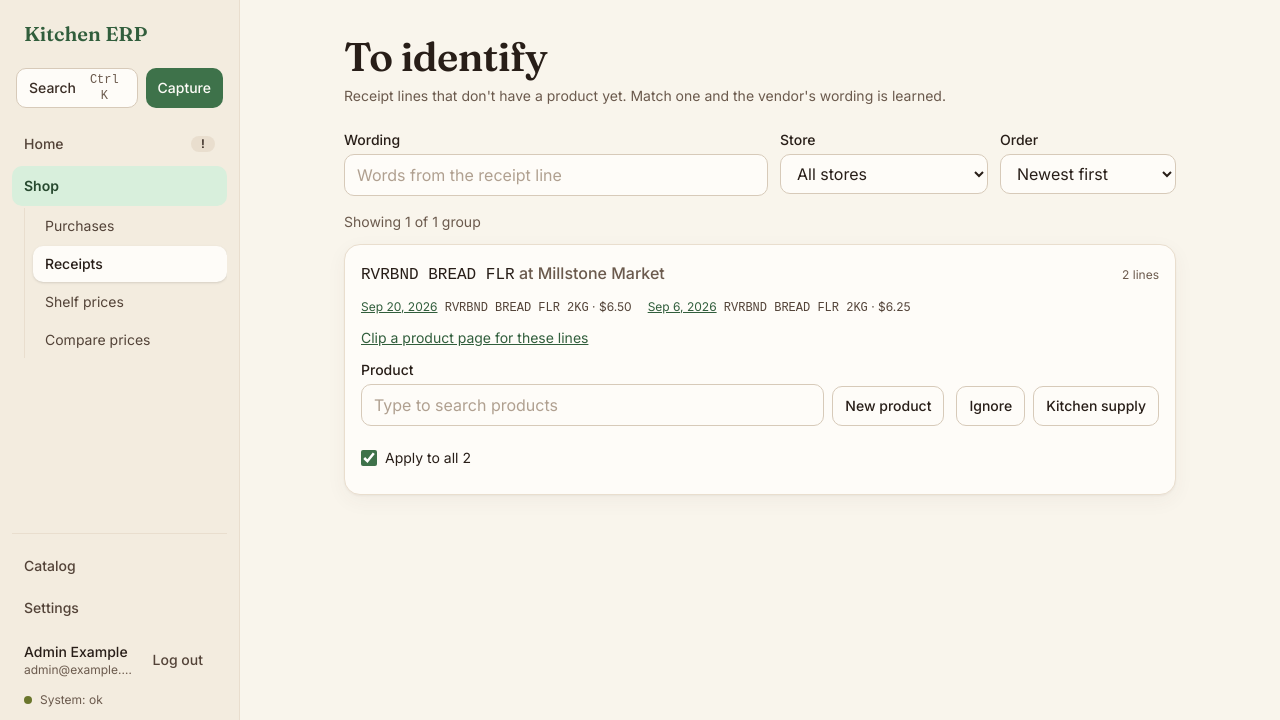
Test: to-identify queue › applies a chosen product to every line in the group by default
The image size is (1280, 720).
Expected: the element named "Millstone Market: RVRBND BREAD FLR" shows "2 lines", [361,261,1159,478]
Expected: the checkbox labelled "Apply to all 2" is checked, [361,450,377,466]
Type "flour" into the dropdown labelled "Product" at x=593, y=405, box [361,384,824,426]
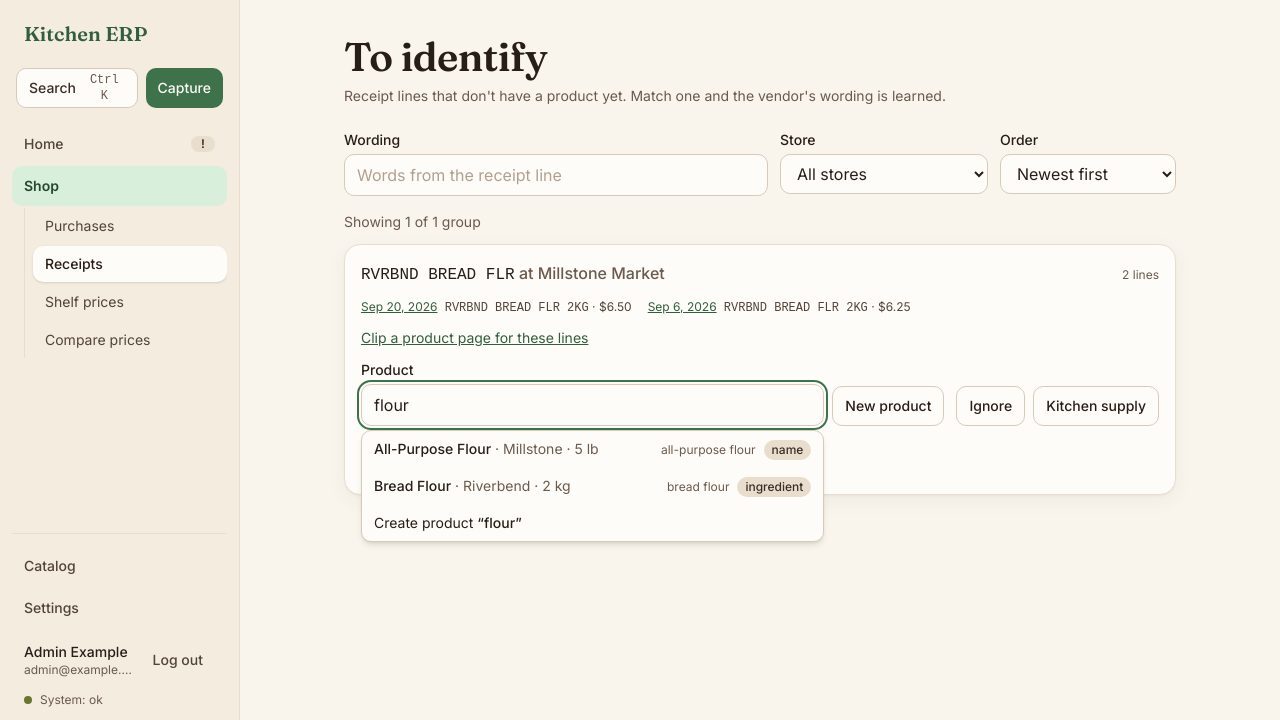
Click the option "Bread Flour · Riverbend · 2 kg bread flour ingredient" at x=413, y=486, box [374,477,811,497]
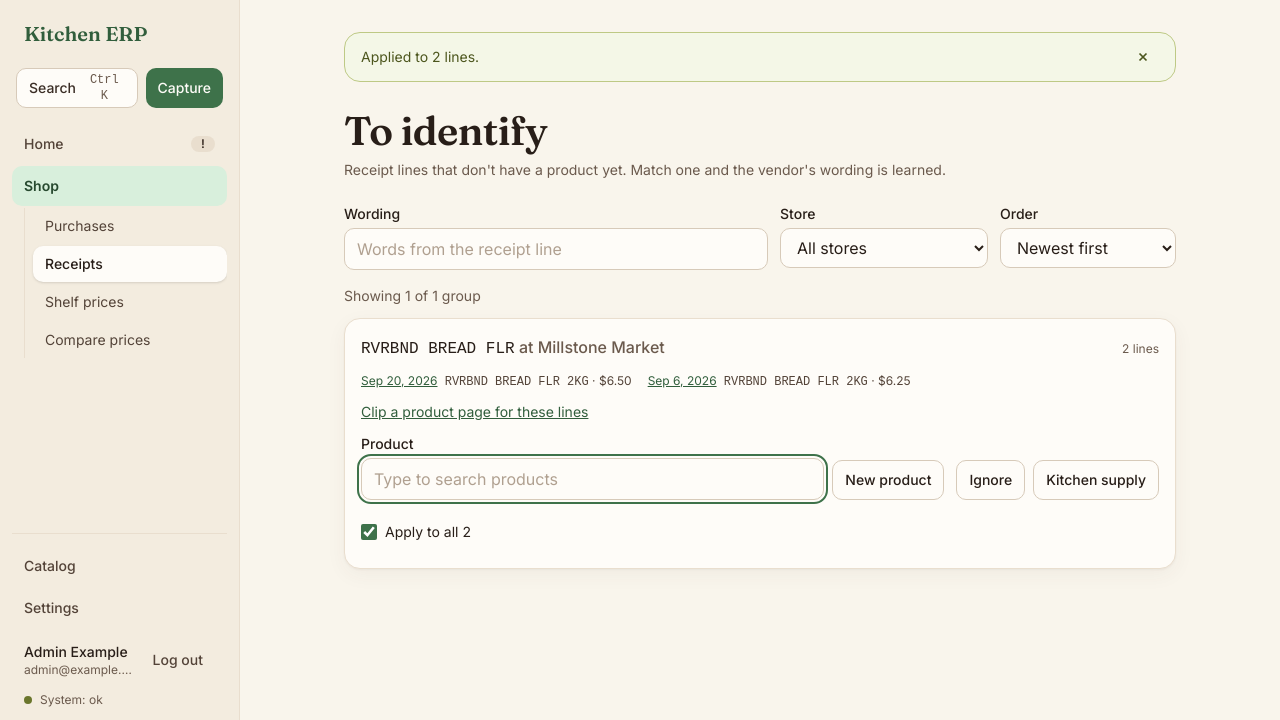
Now the text "Applied to 2 lines." is shown, box [361,47,479,67]
